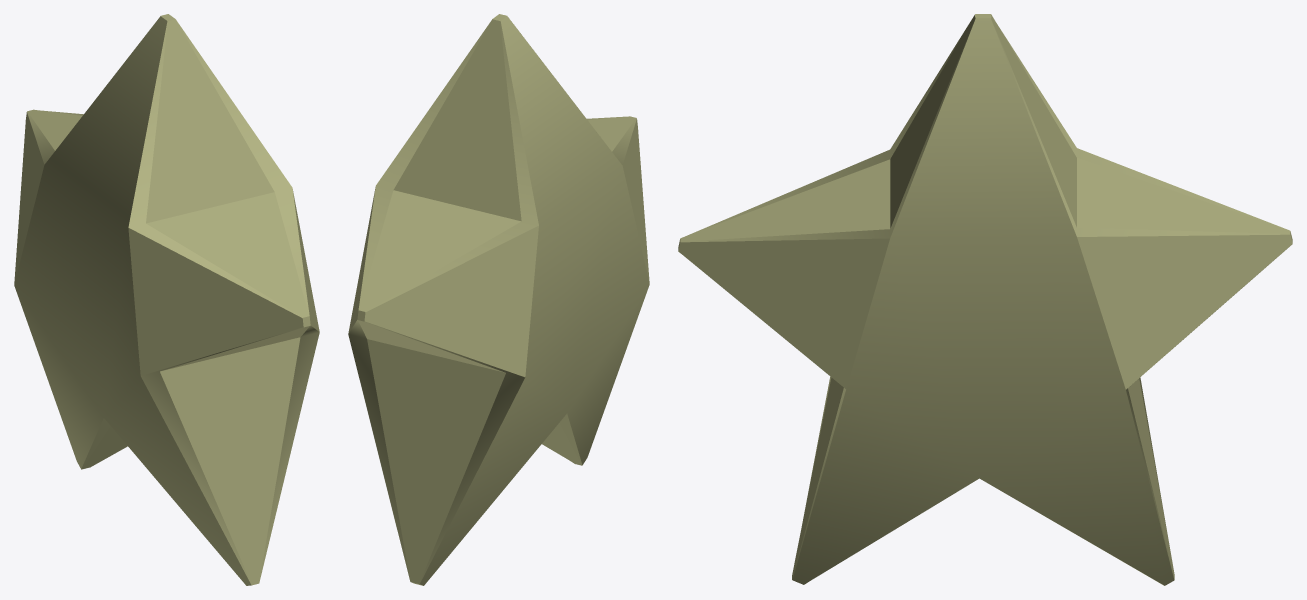
Rendered from Star.fbx.
The picture shows the model from 3 angles, left to right: view 1: azimuth 30°, elevation 25°; view 2: azimuth 150°, elevation 25°; view 3: azimuth 270°, elevation 25°; orthographic projection. The views are drawn at different scales.
Visible parts, largest first — view 1: pCube1; view 2: pCube1; view 3: pCube1.
Part boxes in pixels (x1,y1,x2,y2): pCube1: (14, 14, 319, 585); pCube1: (348, 14, 649, 585); pCube1: (678, 14, 1292, 585).
Bounding box in the file's own units: 0.957 × 2.6 × 2.55.
